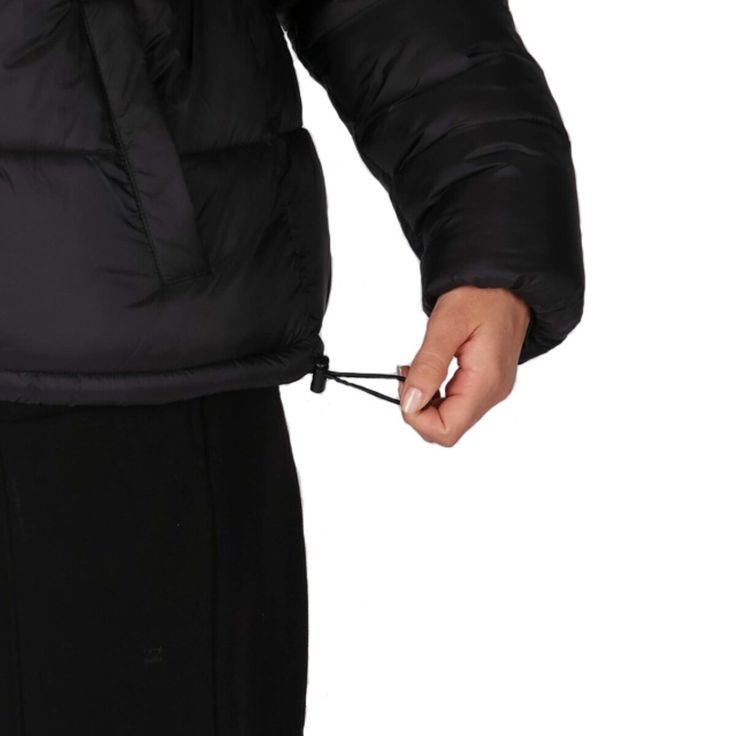nylon: (1, 1, 587, 412)
